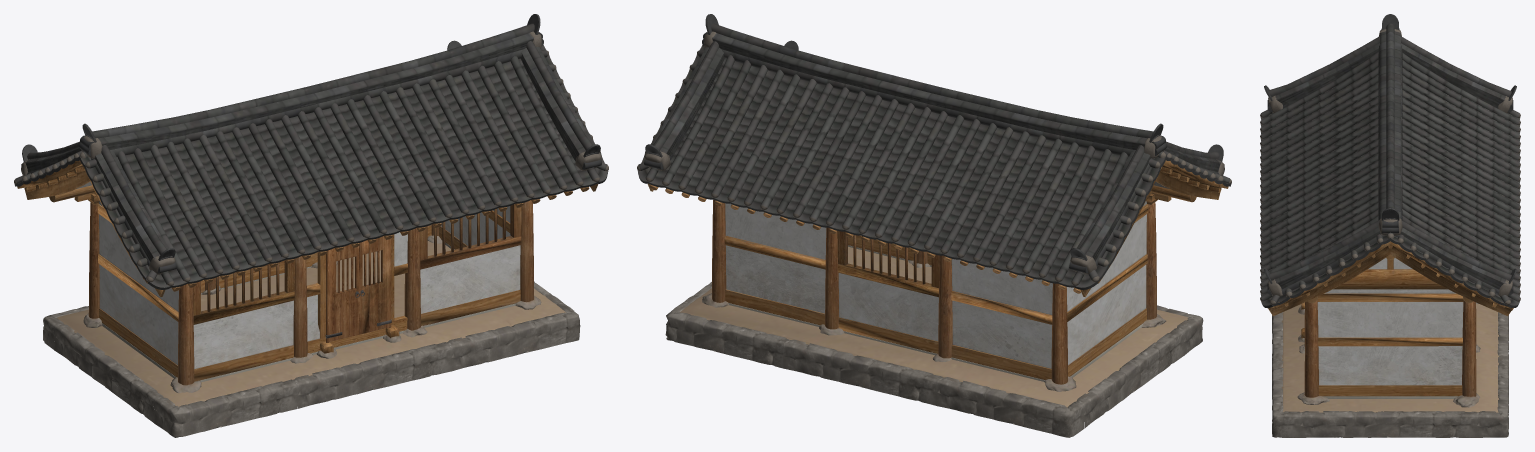
Rendered from kitchen.glb.
3 renders of one model, left to right at view 1: azimuth 30°, elevation 25°; view 2: azimuth 150°, elevation 25°; view 3: azimuth 270°, elevation 25°, orthographic. The views are drawn at different scales.
Parts seen in each view (by area): view 1: SM_24ET0026_Roof02_M_24ET0026_Roof02_0, SM_24ET0026_Roof02_M_24ET0026_Roof01_0, SM_24ET0026_Stereobate_M_24ET0026_Stereobate_0, SM_24ET0026_Floor_M_24ET0026_Floor_0, SM_24ET0026_Roof01_M_24ET0026_Roof03_0, SM_24ET0026_Wall01_M_24ET0026_Wall01_0, SM_24ET0026_Pillar_M_24ET0026_Pillar_0, SM_24ET0026_Roof03_M_24ET0026_Roof03_0, SM_24ET0026_Wall02_M_24ET0026_Wall02_0, SM_24ET0026_Wallwood_M_24ET0026_Wallwood_0, SM_24ET0026_Door01_M_24ET0026_Door01_0, SM_24ET0026_Door02_M_24ET0026_Door02_0 (+11 smaller); view 2: SM_24ET0026_Roof02_M_24ET0026_Roof02_0, SM_24ET0026_Roof02_M_24ET0026_Roof01_0, SM_24ET0026_Stereobate_M_24ET0026_Stereobate_0, SM_24ET0026_Wall01_M_24ET0026_Wall01_0, SM_24ET0026_Roof01_M_24ET0026_Roof03_0, SM_24ET0026_Floor_M_24ET0026_Floor_0, SM_24ET0026_Wallwood_M_24ET0026_Wallwood_0, SM_24ET0026_Wall02_M_24ET0026_Wall02_0, SM_24ET0026_Pillar_M_24ET0026_Pillar_0, SM_24ET0026_Roof03_M_24ET0026_Roof03_0, SM_24ET0026_Window01_M_24ET0026_Window01_0, SM_24ET0026_Roof04_M_24ET0026_Roof02_0 (+7 smaller); view 3: SM_24ET0026_Roof02_M_24ET0026_Roof01_0, SM_24ET0026_Wall02_M_24ET0026_Wall02_0, SM_24ET0026_Roof03_M_24ET0026_Roof03_0, SM_24ET0026_Stereobate_M_24ET0026_Stereobate_0, SM_24ET0026_Roof02_M_24ET0026_Roof02_0, SM_24ET0026_Floor_M_24ET0026_Floor_0, SM_24ET0026_Roof01_M_24ET0026_Roof03_0, SM_24ET0026_Wallwood_M_24ET0026_Wallwood_0, SM_24ET0026_Bakgong_M_24ET0026_Bakgong_0, SM_24ET0026_Pillar_M_24ET0026_Pillar_0, SM_24ET0026_Wood01_M_24ET0026_Wood01_0, SM_24ET0026_Roof04_M_24ET0026_Roof02_0 (+6 smaller).
Part boxes in pixels (left/top/right/bottom): SM_24ET0026_Roof02_M_24ET0026_Roof02_0: left=117, top=58, right=597, bottom=287; SM_24ET0026_Roof02_M_24ET0026_Roof01_0: left=117, top=56, right=599, bottom=285; SM_24ET0026_Stereobate_M_24ET0026_Stereobate_0: left=43, top=281, right=580, bottom=437; SM_24ET0026_Floor_M_24ET0026_Floor_0: left=57, top=241, right=565, bottom=406; SM_24ET0026_Roof01_M_24ET0026_Roof03_0: left=79, top=23, right=541, bottom=156; SM_24ET0026_Wall01_M_24ET0026_Wall01_0: left=99, top=214, right=319, bottom=369; SM_24ET0026_Pillar_M_24ET0026_Pillar_0: left=88, top=200, right=533, bottom=385; SM_24ET0026_Roof03_M_24ET0026_Roof03_0: left=24, top=41, right=601, bottom=272; SM_24ET0026_Wall02_M_24ET0026_Wall02_0: left=394, top=206, right=520, bottom=313; SM_24ET0026_Wallwood_M_24ET0026_Wallwood_0: left=97, top=204, right=520, bottom=381; SM_24ET0026_Door01_M_24ET0026_Door01_0: left=326, top=244, right=359, bottom=342; SM_24ET0026_Door02_M_24ET0026_Door02_0: left=359, top=236, right=391, bottom=334; SM_24ET0026_Roof02_M_24ET0026_Roof02_0: left=648, top=58, right=1128, bottom=287; SM_24ET0026_Roof02_M_24ET0026_Roof01_0: left=645, top=55, right=1128, bottom=285; SM_24ET0026_Stereobate_M_24ET0026_Stereobate_0: left=665, top=282, right=1203, bottom=437; SM_24ET0026_Wall01_M_24ET0026_Wall01_0: left=838, top=214, right=1146, bottom=368; SM_24ET0026_Roof01_M_24ET0026_Roof03_0: left=704, top=23, right=1166, bottom=156; SM_24ET0026_Floor_M_24ET0026_Floor_0: left=680, top=246, right=1188, bottom=407; SM_24ET0026_Wallwood_M_24ET0026_Wallwood_0: left=724, top=204, right=1148, bottom=379; SM_24ET0026_Wall02_M_24ET0026_Wall02_0: left=725, top=203, right=910, bottom=313; SM_24ET0026_Pillar_M_24ET0026_Pillar_0: left=712, top=199, right=1156, bottom=384; SM_24ET0026_Roof03_M_24ET0026_Roof03_0: left=644, top=41, right=1221, bottom=272; SM_24ET0026_Window01_M_24ET0026_Window01_0: left=837, top=231, right=939, bottom=297; SM_24ET0026_Roof04_M_24ET0026_Roof02_0: left=637, top=45, right=1231, bottom=287; SM_24ET0026_Roof02_M_24ET0026_Roof01_0: left=1260, top=52, right=1520, bottom=301; SM_24ET0026_Wall02_M_24ET0026_Wall02_0: left=1317, top=258, right=1463, bottom=385; SM_24ET0026_Roof03_M_24ET0026_Roof03_0: left=1267, top=36, right=1513, bottom=294; SM_24ET0026_Stereobate_M_24ET0026_Stereobate_0: left=1272, top=312, right=1508, bottom=437; SM_24ET0026_Roof02_M_24ET0026_Roof02_0: left=1260, top=60, right=1520, bottom=296; SM_24ET0026_Floor_M_24ET0026_Floor_0: left=1281, top=304, right=1499, bottom=412; SM_24ET0026_Roof01_M_24ET0026_Roof03_0: left=1378, top=23, right=1402, bottom=233; SM_24ET0026_Wallwood_M_24ET0026_Wallwood_0: left=1317, top=293, right=1463, bottom=396; SM_24ET0026_Bakgong_M_24ET0026_Bakgong_0: left=1268, top=241, right=1512, bottom=316; SM_24ET0026_Pillar_M_24ET0026_Pillar_0: left=1304, top=301, right=1476, bottom=397; SM_24ET0026_Wood01_M_24ET0026_Wood01_0: left=1333, top=259, right=1447, bottom=289; SM_24ET0026_Roof04_M_24ET0026_Roof02_0: left=1261, top=235, right=1519, bottom=306.
Bounding box in the file's own units: 9.96 × 5.56 × 5.5.
26 materials, 26 textured.
